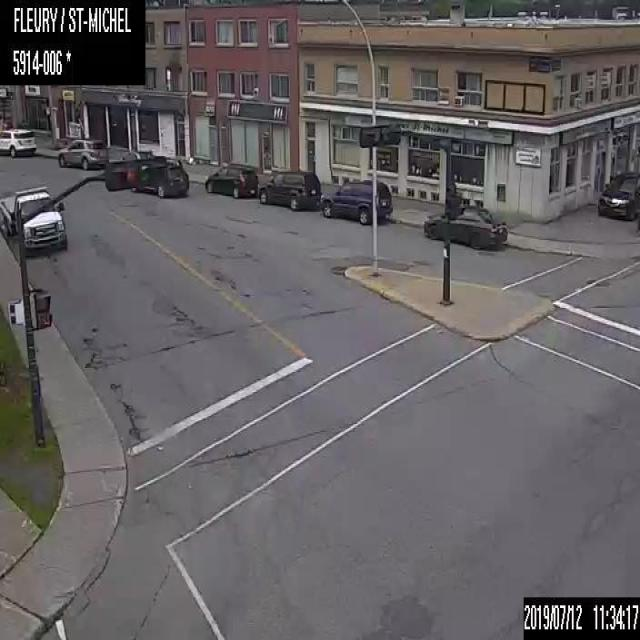vehicle: (0, 182, 66, 253), (421, 201, 508, 248), (319, 177, 392, 225), (257, 165, 319, 211), (132, 154, 189, 198), (596, 167, 639, 221), (204, 160, 258, 197), (56, 136, 109, 171), (0, 123, 37, 157)
